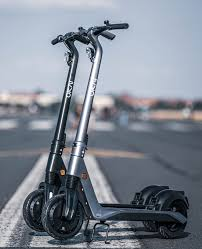kick_body: (100, 206, 153, 220)
kick_handler: (81, 20, 128, 38), (51, 33, 89, 49)
kick_wheel: (44, 195, 82, 238), (155, 190, 189, 237)
